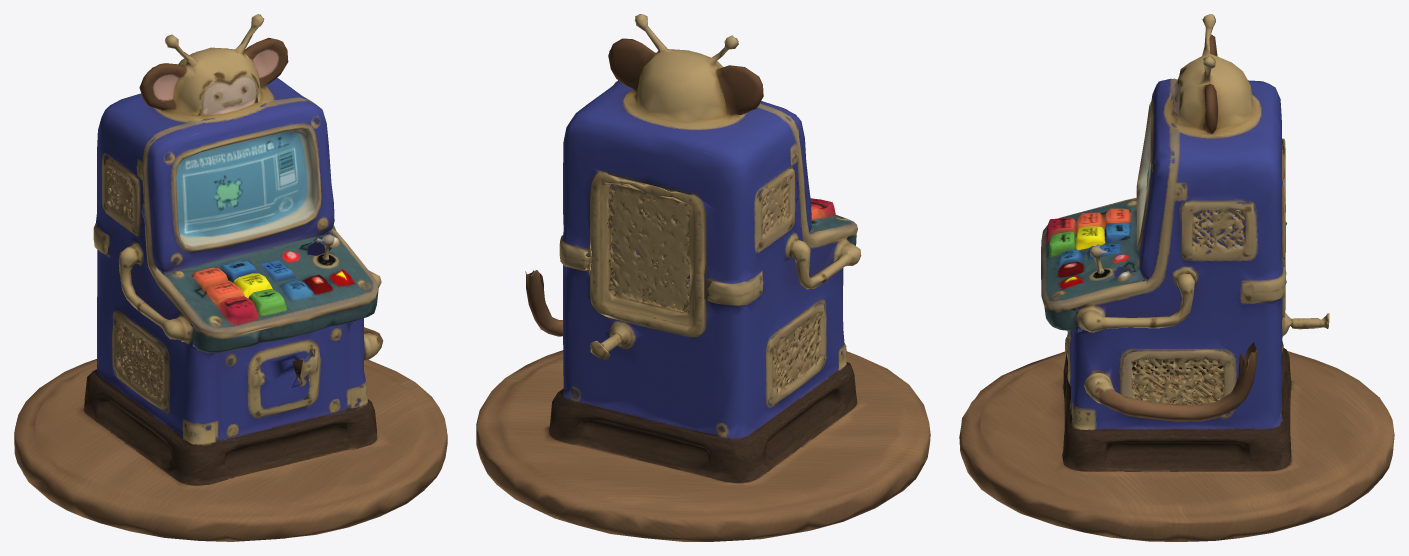
Rendered from int_party_pc.glb.
3 renders of one model, left to right at view 1: azimuth 30°, elevation 25°; view 2: azimuth 150°, elevation 25°; view 3: azimuth 270°, elevation 25°, orthographic. The views are drawn at different scales.
Visible parts, largest first — view 1: world; view 2: world; view 3: world.
Part boxes in pixels (x1,y1,x2,y2): world: [14, 14, 447, 541]; world: [476, 14, 930, 541]; world: [959, 14, 1394, 541].
Size of the model in its own units: 0.9466 by 0.9995 by 0.9457.
Materials: 1 (1 with a texture image).
